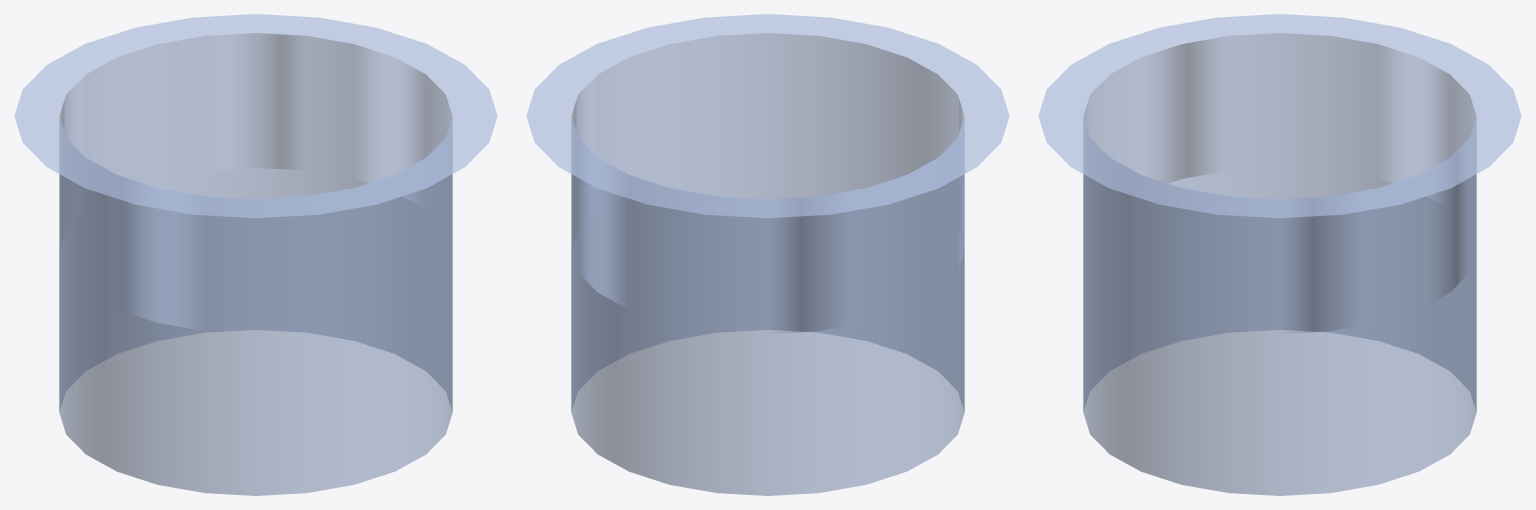
3 views of the same model, side by side, from view 1: azimuth 30°, elevation 25°; view 2: azimuth 150°, elevation 25°; view 3: azimuth 270°, elevation 25° (orthographic).
Bounding box in the file's own units: 0.3654 × 0.2476 × 0.3654.
